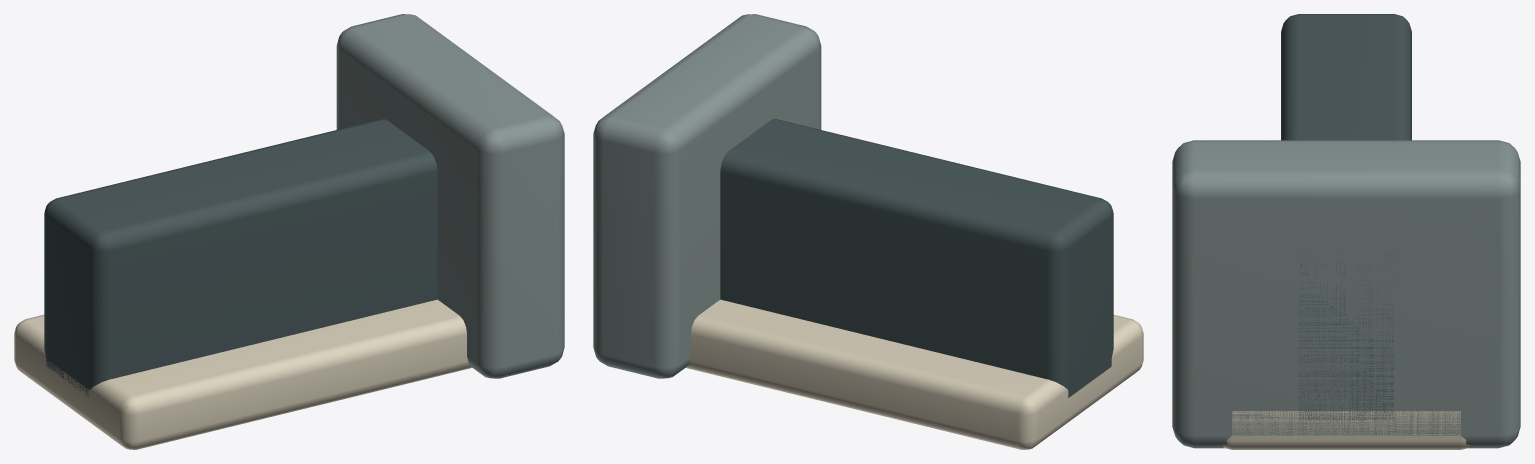
The model's file is ceiling-beam-end-050.glb.
3 views of the same model, side by side, from view 1: azimuth 30°, elevation 25°; view 2: azimuth 150°, elevation 25°; view 3: azimuth 270°, elevation 25° (orthographic). The views are drawn at different scales.
Visible parts, largest first — view 1: ceiling-beam-end-050 / 06 • dark anodized frame, ceiling-beam-end-050 / 05 • brushed titanium, ceiling-beam-end-050 / 01 • warm porcelain paint; view 2: ceiling-beam-end-050 / 06 • dark anodized frame, ceiling-beam-end-050 / 05 • brushed titanium, ceiling-beam-end-050 / 01 • warm porcelain paint; view 3: ceiling-beam-end-050 / 05 • brushed titanium, ceiling-beam-end-050 / 06 • dark anodized frame, ceiling-beam-end-050 / 01 • warm porcelain paint.
Part boxes in pixels (x1,y1,x2,y2): ceiling-beam-end-050 / 06 • dark anodized frame: (44,118,437,396); ceiling-beam-end-050 / 05 • brushed titanium: (336,14,564,378); ceiling-beam-end-050 / 01 • warm porcelain paint: (14,299,472,449); ceiling-beam-end-050 / 06 • dark anodized frame: (720,118,1113,397); ceiling-beam-end-050 / 05 • brushed titanium: (593,14,821,378); ceiling-beam-end-050 / 01 • warm porcelain paint: (685,299,1143,449); ceiling-beam-end-050 / 05 • brushed titanium: (1172,140,1520,448); ceiling-beam-end-050 / 06 • dark anodized frame: (1281,14,1411,419); ceiling-beam-end-050 / 01 • warm porcelain paint: (1223,411,1469,449).
Size of the model in its own units: 0.5 by 0.28 by 0.32.
